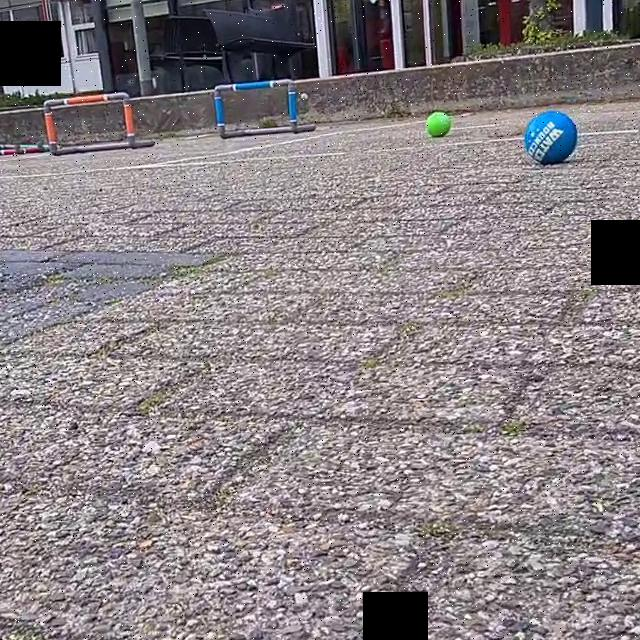ball: (422, 108, 453, 141)
